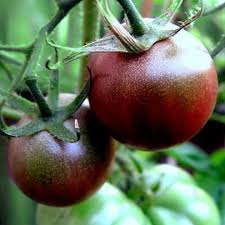tomato: (89, 16, 218, 148), (9, 107, 114, 209)
